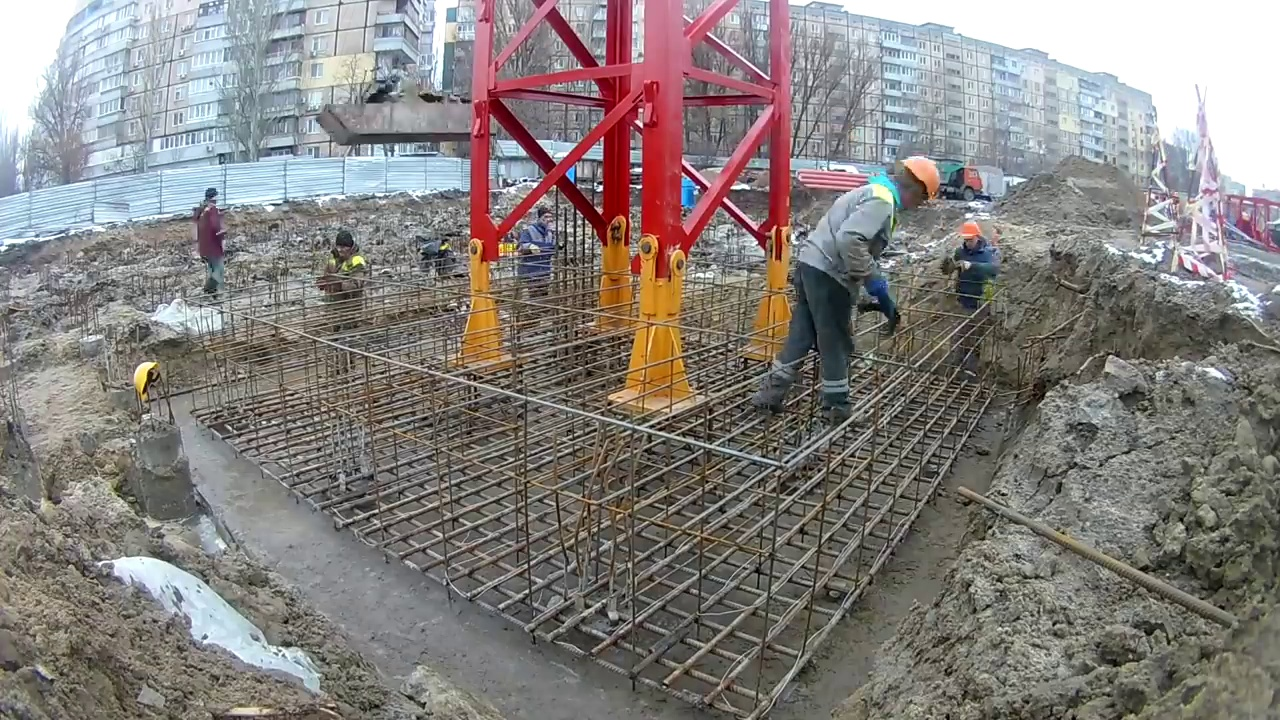helmet: (900, 152, 942, 201), (130, 360, 160, 400), (956, 220, 981, 239)
helmet-off: (334, 230, 357, 264), (534, 206, 555, 234), (204, 187, 220, 211)
helmet-on: (889, 151, 945, 210), (956, 220, 987, 259)
person: (756, 151, 948, 423), (939, 218, 998, 317), (193, 187, 229, 293), (318, 230, 366, 305), (518, 206, 558, 287)
